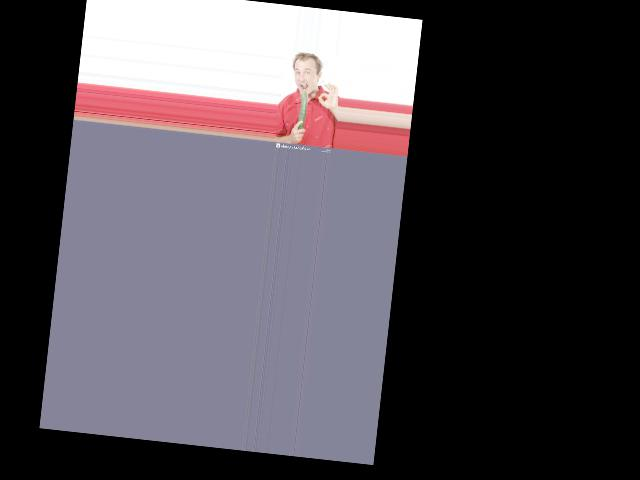cucumber: (298, 91, 308, 129)
